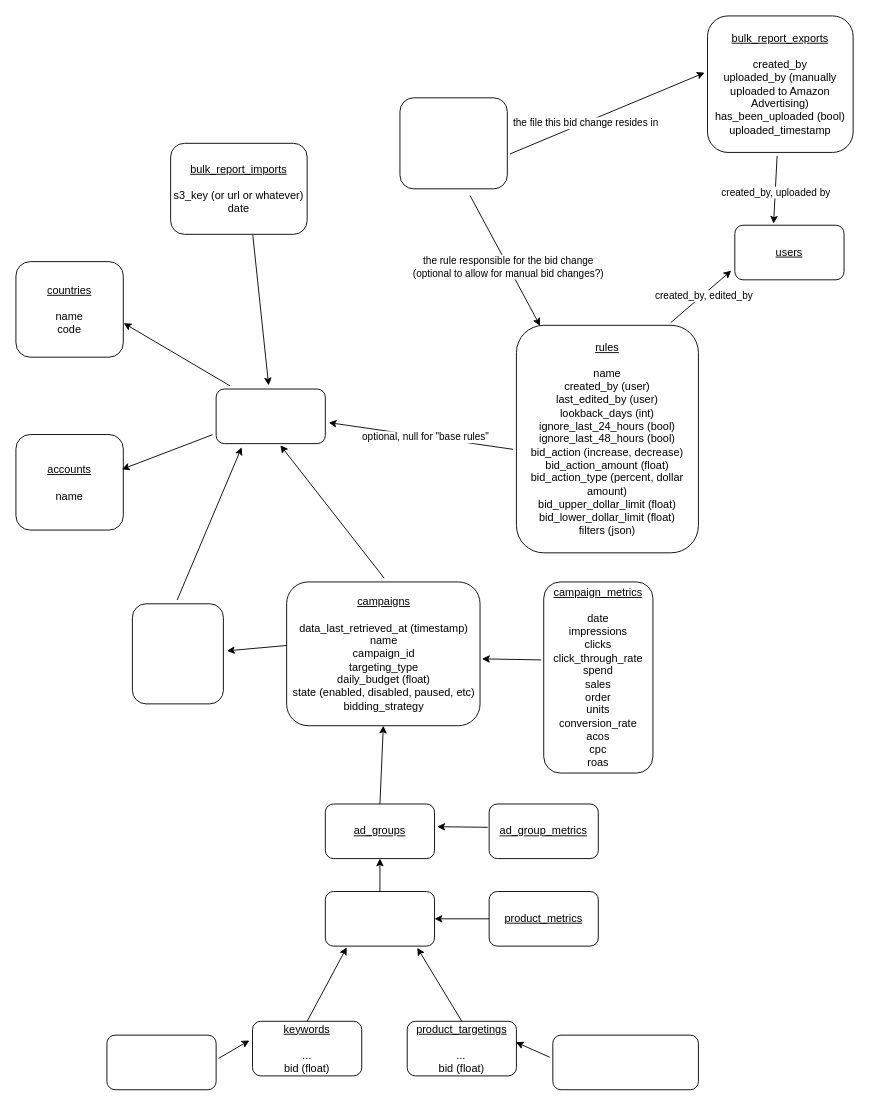
Image size: 869x1106. Some labels were removed from this diagram. Here are the shapes that lost their labels. From the top down, the centre of each, then its label:
At (x=453, y=143): "bid_changes (polymorphic) information about the before and after of a bid".
At (x=270, y=416): "account_countries entity_id".
At (x=177, y=653): "portfolios name portfolio_id".
At (x=379, y=918): "product_ads".
At (x=161, y=1062): "keyword_metrics".
At (x=625, y=1062): "product_targeting_metrics".
